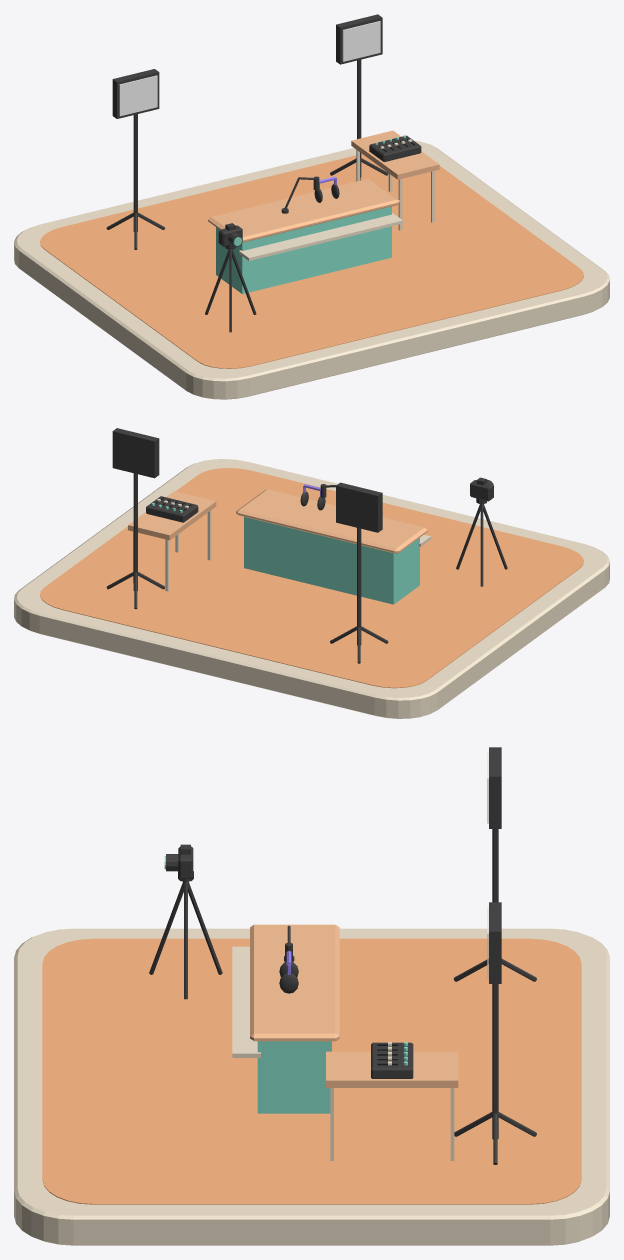
The picture shows the model from 3 angles, top to bottom: view 1: azimuth 30°, elevation 25°; view 2: azimuth 150°, elevation 25°; view 3: azimuth 270°, elevation 25°; orthographic projection. The views are drawn at different scales.
Parts seen in each view (by area): view 1: COM-02 Floor Surface, COM-01 Rounded Base Direct, Counter body, Countertop, Top, Visitor shelf, Diffuser, Diffuser.001, Audio console, Light panel, Light panel.001, Pole; view 2: COM-02 Floor Surface, COM-01 Rounded Base Direct, Counter body, Countertop, Top, Light panel.001, Light panel, Audio console, Pole, Pole.001; view 3: COM-02 Floor Surface, COM-01 Rounded Base Direct, Countertop, Counter body, Top, Visitor shelf, Audio console, Light panel, Light panel.001, Pole.001.
Boxes of the visible parts, <box> form: COM-02 Floor Surface: <box>40,154,583,368</box>; COM-01 Rounded Base Direct: <box>14,140,609,399</box>; Counter body: <box>216,206,391,293</box>; Countertop: <box>208,178,399,242</box>; Top: <box>351,130,439,230</box>; Visitor shelf: <box>239,213,402,260</box>; Diffuser: <box>119,75,157,116</box>; Diffuser.001: <box>342,21,380,61</box>; Audio console: <box>369,135,421,161</box>; Light panel: <box>112,69,159,118</box>; Light panel.001: <box>336,14,382,64</box>; Pole: <box>133,114,137,231</box>; COM-02 Floor Surface: <box>40,468,583,688</box>; COM-01 Rounded Base Direct: <box>14,459,609,718</box>; Counter body: <box>244,517,419,604</box>; Countertop: <box>236,489,427,553</box>; Top: <box>128,491,216,591</box>; Light panel.001: <box>112,428,159,478</box>; Light panel: <box>336,482,382,532</box>; Audio console: <box>146,496,198,522</box>; Pole: <box>357,528,361,645</box>; Pole.001: <box>133,473,137,590</box>; COM-02 Floor Surface: <box>42,938,581,1204</box>; COM-01 Rounded Base Direct: <box>14,928,609,1245</box>; Countertop: <box>250,924,339,1041</box>; Counter body: <box>257,1041,331,1113</box>; Top: <box>326,1051,458,1160</box>; Visitor shelf: <box>232,946,260,1057</box>; Audio console: <box>371,1042,413,1078</box>; Light panel: <box>489,747,501,828</box>; Light panel.001: <box>489,902,501,983</box>; Pole.001: <box>492,984,498,1139</box>.
Bounding box in the file's own units: 6 × 2.53 × 5.2.
Materials: 1 (1 with a texture image).
